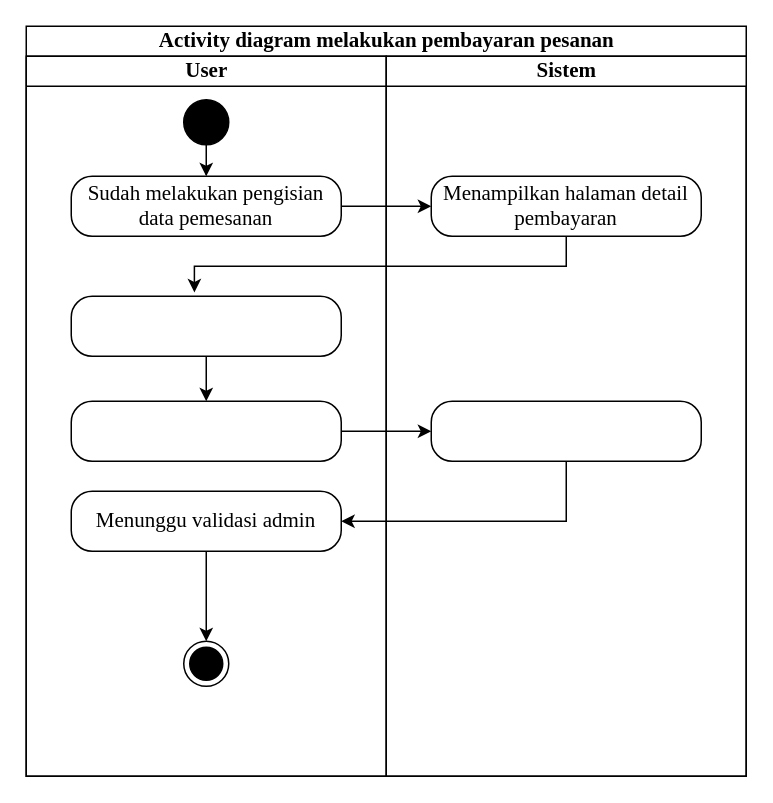
Image size: 773x803. Some labels were removed from this diagram. Each missing label, with the centre of its shape:
Klik "Upload Bukti Pembayaran": [205,430]
Menampilkan bukti pembayaran berhasil diupload: [565,430]
Mentrasfer ke rekening yang ditampilkan: [205,325]
